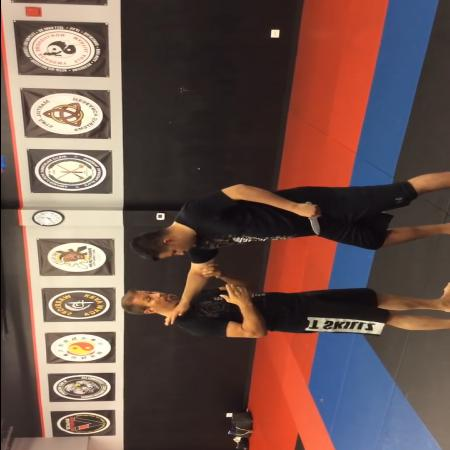long weapon: (299, 201, 321, 236)
